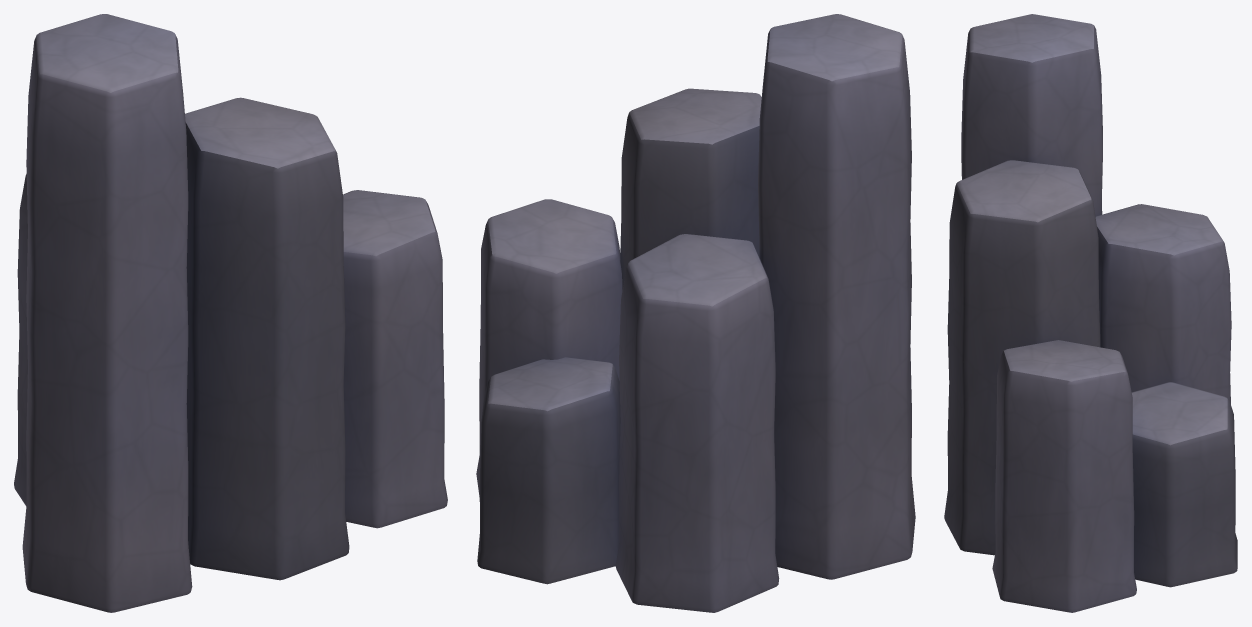
Rendered from EF_P03_BasaltColumns.fbx.
3 views of the same model, side by side, from view 1: azimuth 30°, elevation 25°; view 2: azimuth 150°, elevation 25°; view 3: azimuth 270°, elevation 25° (orthographic). The views are drawn at different scales.
Parts seen in each view (by area): view 1: Column_01, Column_02, Column_03, Column_04; view 2: Column_01, Column_04, Column_05, Column_03, Column_02; view 3: Column_02, Column_03, Column_04, Column_01, Column_05.
Part boxes in pixels (bbox=[...]): Column_01: bbox=[22, 14, 192, 612]; Column_02: bbox=[185, 97, 349, 580]; Column_03: bbox=[343, 190, 447, 528]; Column_04: bbox=[14, 174, 27, 505]; Column_01: bbox=[758, 14, 915, 579]; Column_04: bbox=[615, 234, 779, 612]; Column_05: bbox=[477, 357, 620, 584]; Column_03: bbox=[476, 199, 622, 496]; Column_02: bbox=[620, 88, 761, 290]; Column_02: bbox=[944, 160, 1100, 555]; Column_03: bbox=[992, 340, 1136, 612]; Column_04: bbox=[1095, 204, 1231, 404]; Column_01: bbox=[961, 14, 1102, 216]; Column_05: bbox=[1131, 382, 1237, 587].
Size of the model in its own units: 2.4 by 2.8 by 1.7.
